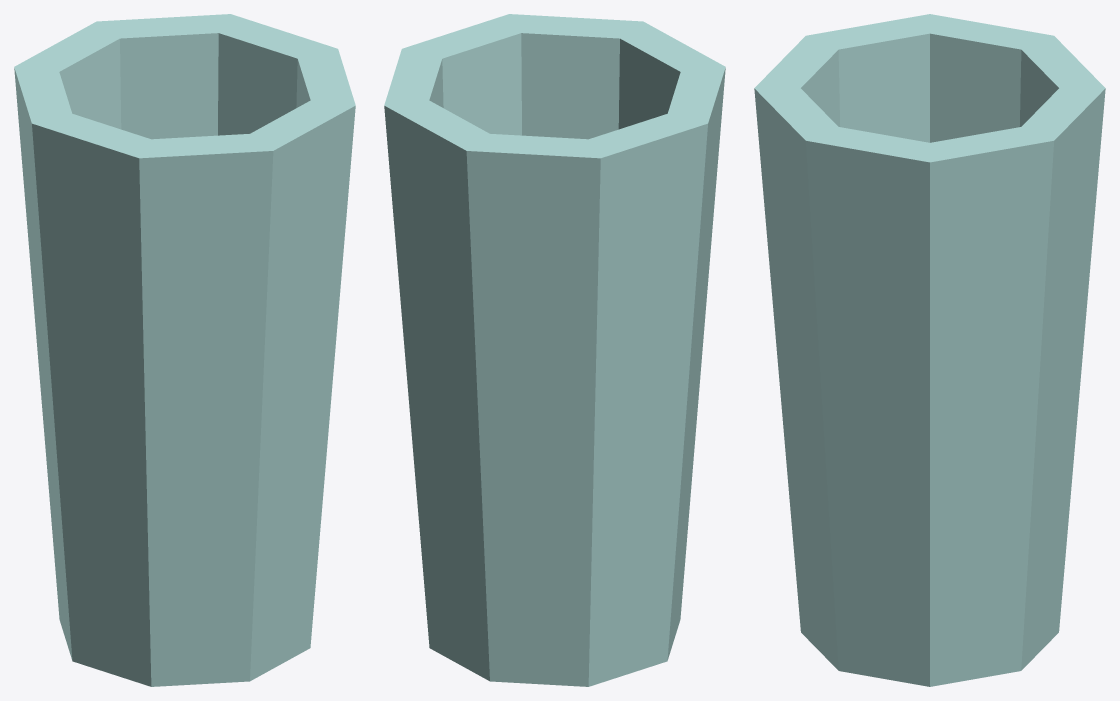
Rendered from glass_empty.fbx.
3 views of the same model, side by side, from view 1: azimuth 30°, elevation 25°; view 2: azimuth 150°, elevation 25°; view 3: azimuth 270°, elevation 25° (orthographic).
Parts seen in each view (by area): view 1: glass_empty; view 2: glass_empty; view 3: glass_empty.
Boxes of the visible parts, x1=… form: glass_empty: x1=14, y1=14, x2=355, y2=686; glass_empty: x1=384, y1=14, x2=725, y2=686; glass_empty: x1=754, y1=14, x2=1105, y2=686.
Size of the model in its own units: 11.7 by 20 by 11.7.
